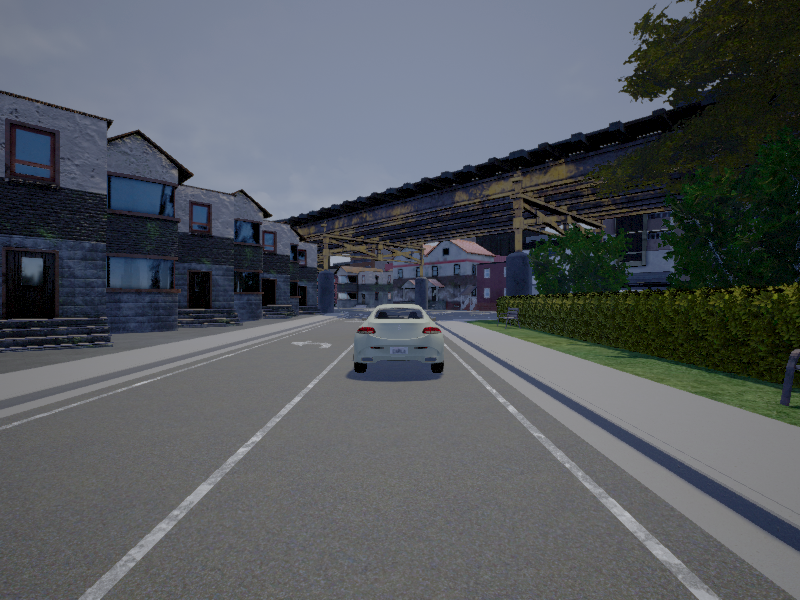Benign: (352, 303, 446, 377)
